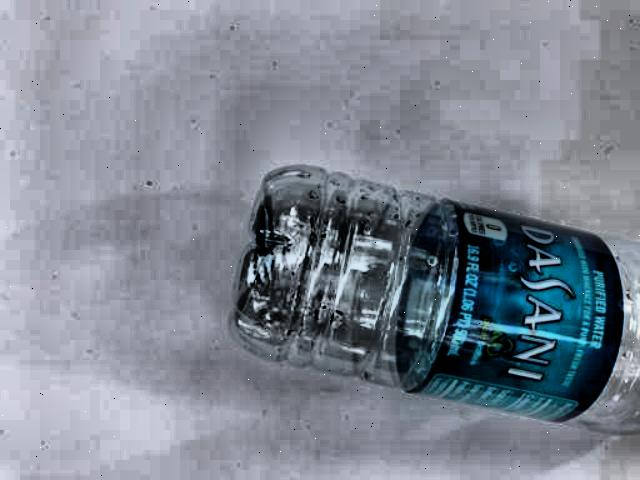Bottles: (209, 147, 640, 480)
